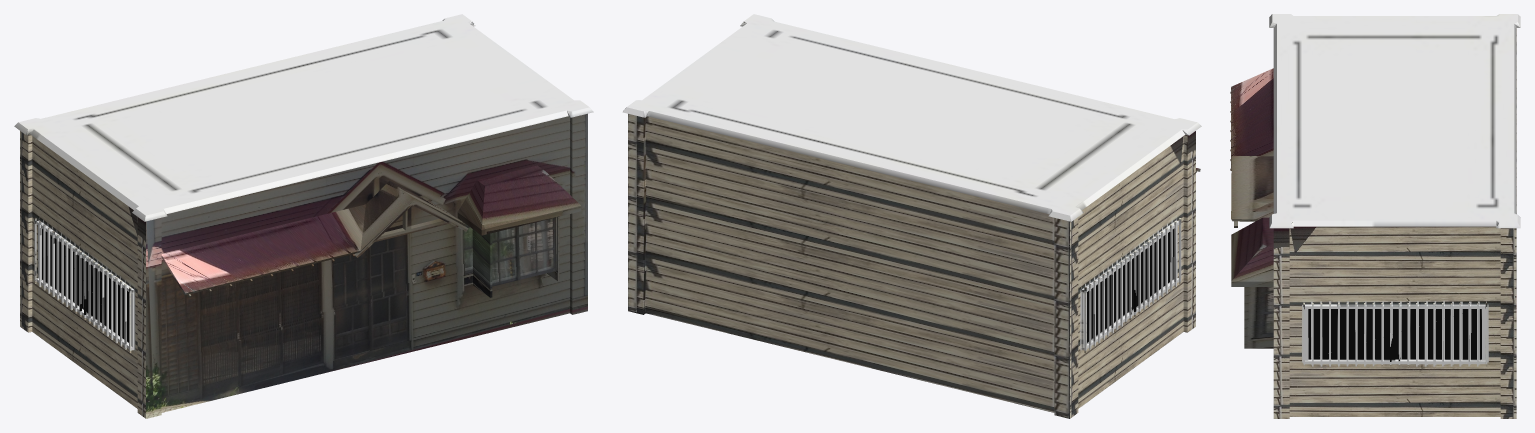
File: house_under1.dae
The picture shows the model from 3 angles, left to right: view 1: azimuth 30°, elevation 25°; view 2: azimuth 150°, elevation 25°; view 3: azimuth 270°, elevation 25°; orthographic projection. The views are drawn at different scales.
Parts seen in each view (by area): view 1: 立方体; view 2: 立方体; view 3: 立方体.
Boxes of the visible parts, x1,y1,x2,y2 form: 立方体: [14, 14, 593, 418]; 立方体: [622, 14, 1201, 418]; 立方体: [1230, 14, 1520, 418].
Bounding box in the file's own units: 576 × 250 × 335.
1 material, 1 textured.
